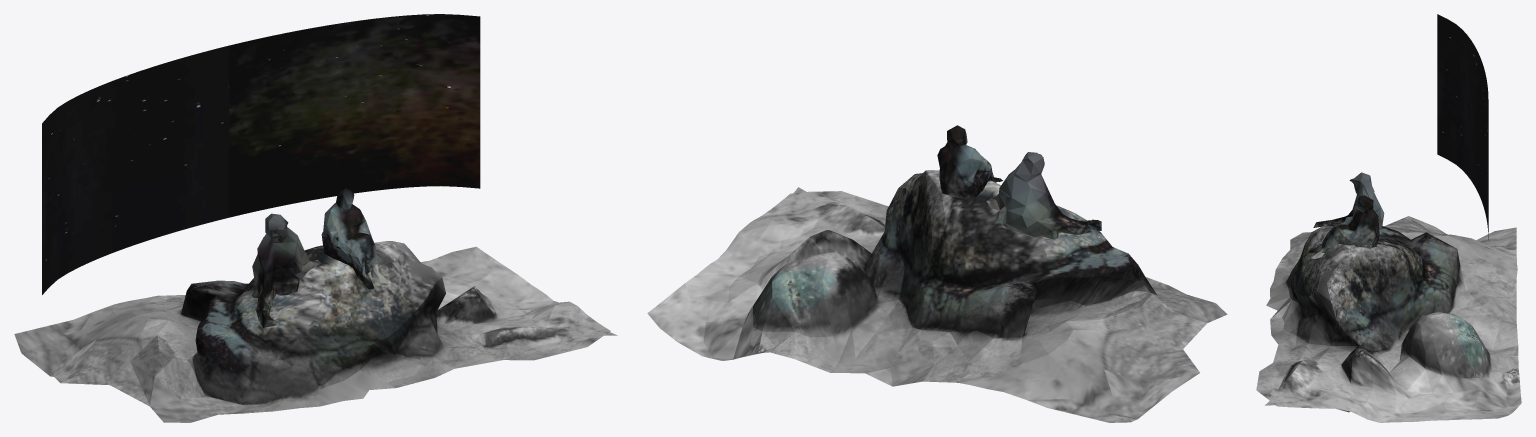
File: fullmoonlightshrine.glb
The picture shows the model from 3 angles, left to right: view 1: azimuth 30°, elevation 25°; view 2: azimuth 150°, elevation 25°; view 3: azimuth 270°, elevation 25°; orthographic projection. The views are drawn at different scales.
Parts seen in each view (by area): view 1: Ground, videotarget2, videotarget; view 2: Ground; view 3: Ground, videotarget.
Boxes of the visible parts, x1,y1,x2,y2 form: Ground: (14,188,617,422); videotarget2: (229,14,480,217); videotarget: (42,45,229,294); Ground: (647,125,1227,422); Ground: (1256,172,1521,422); videotarget: (1437,14,1488,239).
Size of the model in its own units: 9.66 by 5.54 by 5.7.
Materials: 3 (3 with a texture image).
